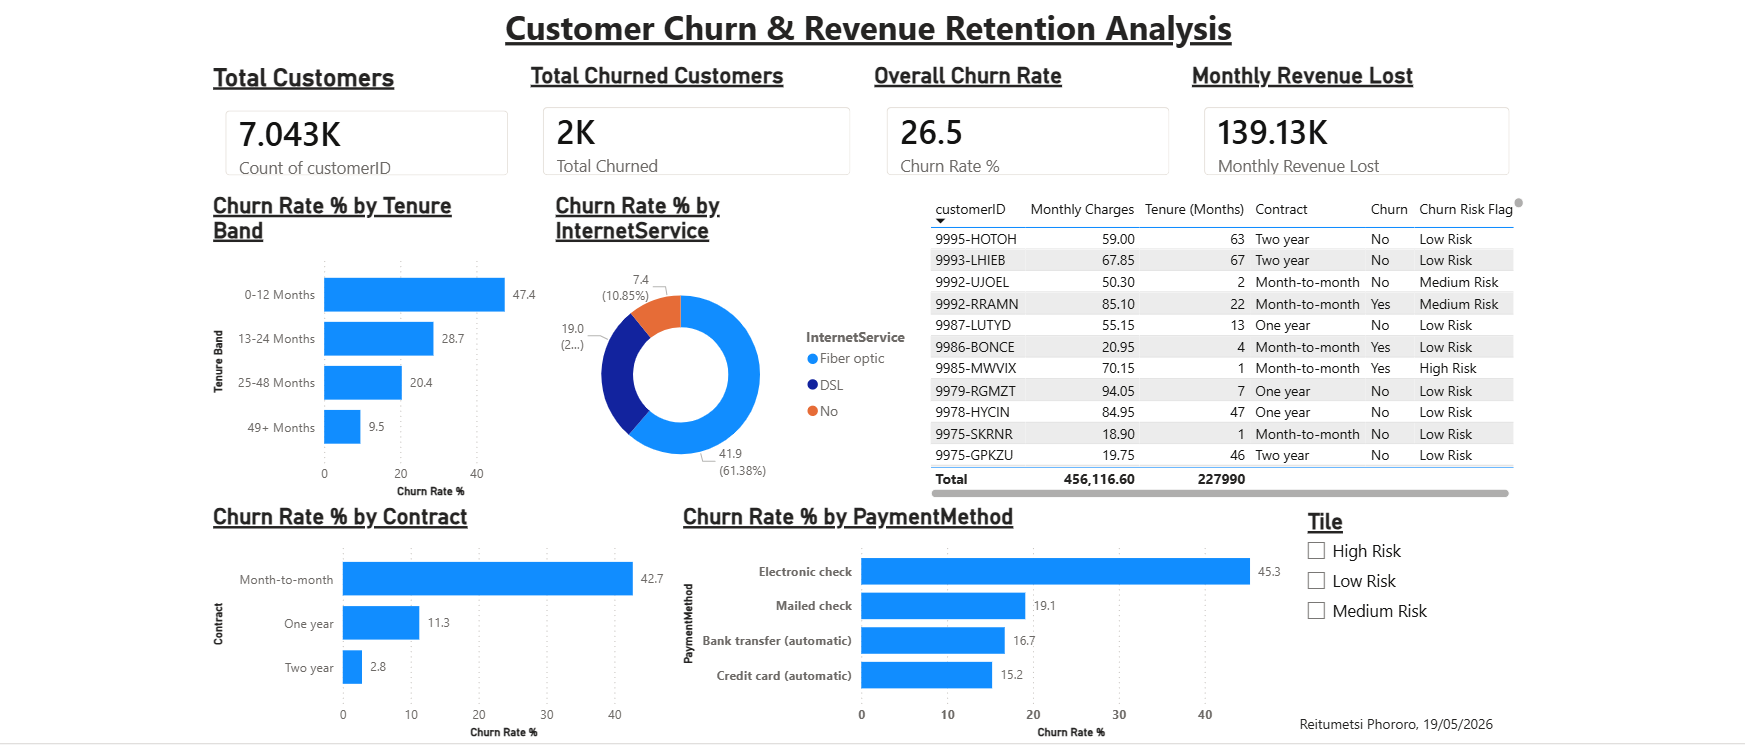

The page's visual inventory and layout, read from the dashboard file:
{"tool":"powerbi","page":{"name":"Page 1","canvas":[1280,720],"ordinal":0},"visuals":[{"type":"textbox","box":[0,0,1280.1,60.2],"z":0},{"type":"cardVisual","title":"Total Customers","fields":{"Data":["CountNonNull(customers.customerID)"]},"box":[0,60.5,308,126.6],"z":1000},{"type":"cardVisual","title":"Total Churned Customers","fields":{"Data":["customers.Total Churned"]},"box":[308,60.5,332.6,126.6],"z":2000},{"type":"cardVisual","title":" Overall Churn Rate","fields":{"Data":["customers.Churn Rate %"]},"box":[640.6,60.5,308,126.6],"z":3000},{"type":"cardVisual","title":"Monthly Revenue Lost","fields":{"Data":["customers.Monthly Revenue Lost"]},"box":[948.7,60.5,330.7,126.6],"z":4000},{"type":"clusteredBarChart","fields":{"Category":["customers.Contract"],"Y":["customers.Churn Rate %"]},"box":[0,487.6,455.4,232.4],"z":5000},{"type":"clusteredBarChart","fields":{"Category":["customers.Tenure Band"],"Y":["customers.Churn Rate %"]},"box":[0,187.1,331.8,300.9],"z":6000},{"type":"clusteredBarChart","fields":{"Category":["customers.PaymentMethod"],"Y":["customers.Churn Rate %"]},"box":[455.4,487.6,597.2,232.4],"z":7000},{"type":"donutChart","fields":{"Category":["customers.InternetService"],"Y":["customers.Churn Rate %"]},"box":[331.8,187.1,362.7,300.9],"z":8000},{"type":"tableEx","fields":{"Values":["customers.customerID","Sum(customers.MonthlyCharges)","Sum(customers.tenure)","customers.Contract","customers.Churn","customers.Churn Risk Flag"]},"box":[694.5,187.1,585.6,300.9],"z":9000},{"type":"slicer","fields":{"Values":["customers.Churn Risk Flag"]},"box":[1052.4,488,227.7,198.4],"z":10000},{"type":"textbox","box":[1052.4,686.4,226.1,34.2],"z":12000}]}

Visuals, with their boxes in screenshot pixels (x1, y1, x2, y2):
textbox: (left=0, top=18, right=1284, bottom=80)
"Total Customers" cardVisual: (left=0, top=80, right=292, bottom=209)
"Total Churned Customers" cardVisual: (left=292, top=80, right=631, bottom=209)
" Overall Churn Rate" cardVisual: (left=631, top=80, right=946, bottom=209)
"Monthly Revenue Lost" cardVisual: (left=946, top=80, right=1283, bottom=209)
clusteredBarChart - customers.Contract x customers.Churn Rate %: (left=0, top=516, right=442, bottom=744)
clusteredBarChart - customers.Tenure Band x customers.Churn Rate %: (left=0, top=209, right=316, bottom=516)
clusteredBarChart - customers.PaymentMethod x customers.Churn Rate %: (left=442, top=516, right=1052, bottom=744)
donutChart - customers.InternetService x customers.Churn Rate %: (left=316, top=209, right=686, bottom=516)
tableEx - customers.customerID x Sum(customers.MonthlyCharges): (left=686, top=209, right=1284, bottom=516)
slicer - customers.Churn Risk Flag: (left=1052, top=516, right=1284, bottom=719)
textbox: (left=1052, top=719, right=1282, bottom=744)
